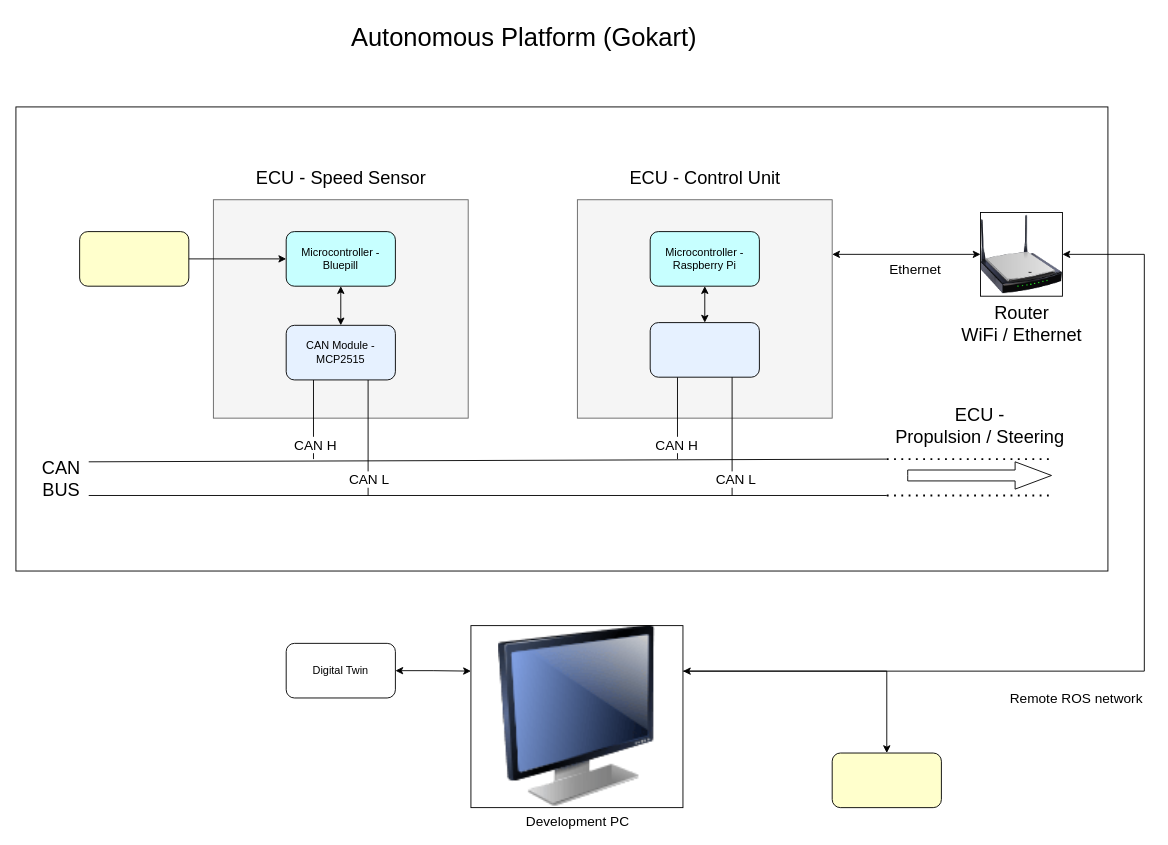
This 1168x845 diagram has some shape labels left out. Here are the shapes that lost their labels. From the top down, the centre of each, then its label:
At (x=134, y=258): "Speed Sensor".
At (x=704, y=349): "CAN Module - CAN HAT".
At (x=886, y=780): "ROS Topic - Velocity".
